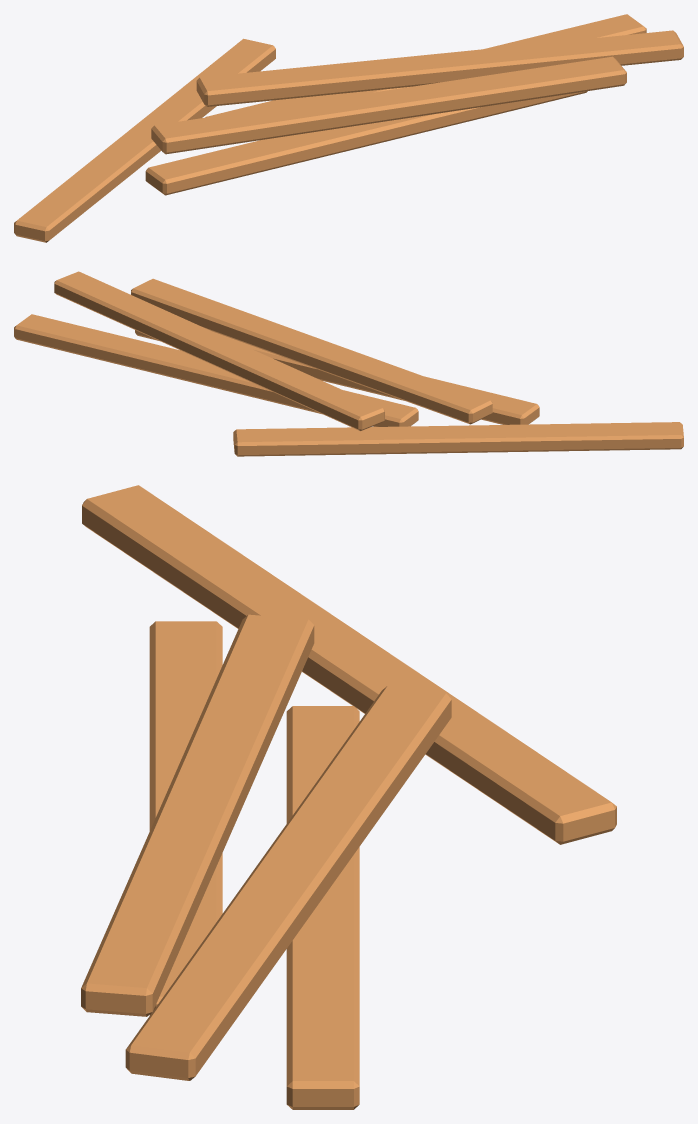
File: Plank B.fbx
The picture shows the model from 3 angles, top to bottom: view 1: azimuth 30°, elevation 25°; view 2: azimuth 150°, elevation 25°; view 3: azimuth 270°, elevation 25°; orthographic projection. The views are drawn at different scales.
Parts seen in each view (by area): view 1: Plank B; view 2: Plank B; view 3: Plank B.
Boxes of the visible parts, <box> form: Plank B: <box>14,14,683,242</box>; Plank B: <box>14,271,683,456</box>; Plank B: <box>81,485,616,1109</box>.
Bounding box in the file's own units: 721 × 32.68 × 272.
